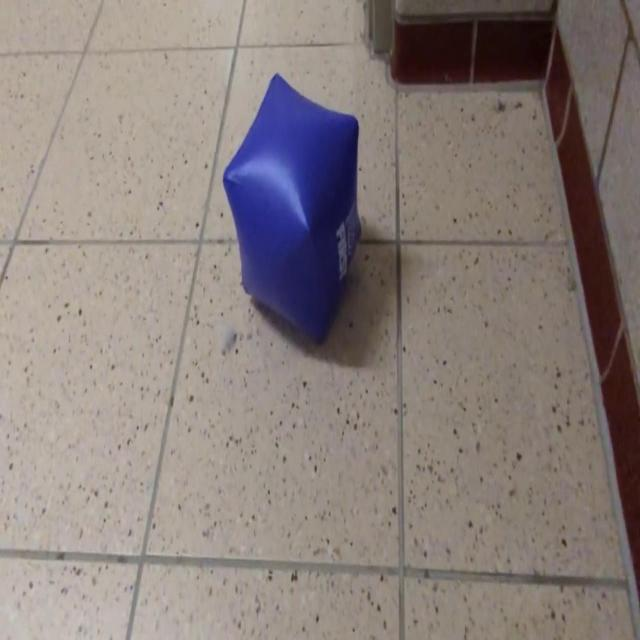frc_cube: (223, 73, 363, 345)
